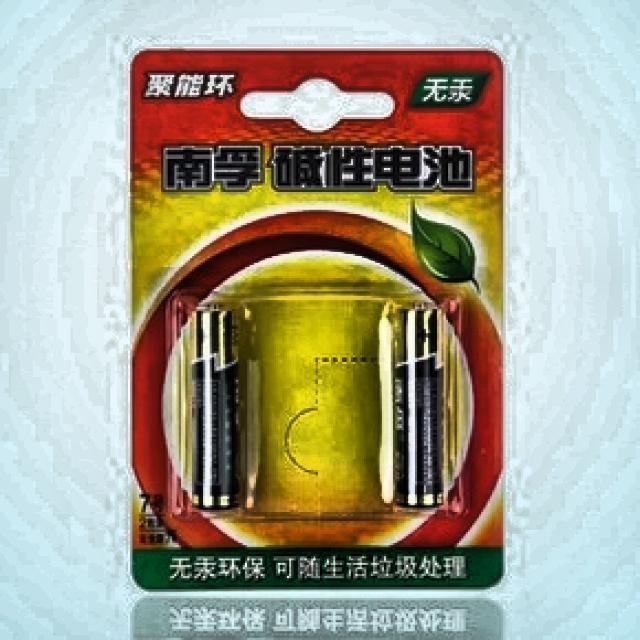battery: (396, 308, 442, 506), (192, 310, 238, 508)
